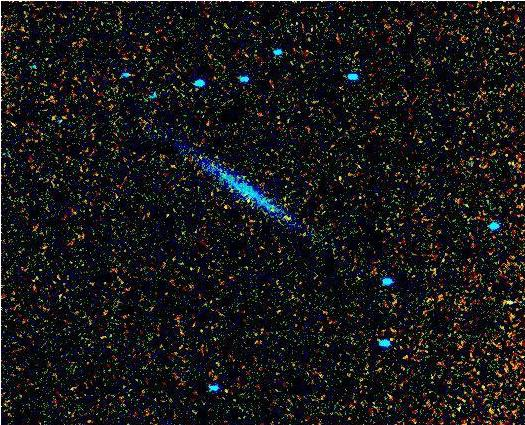star: (270, 202, 300, 232)
